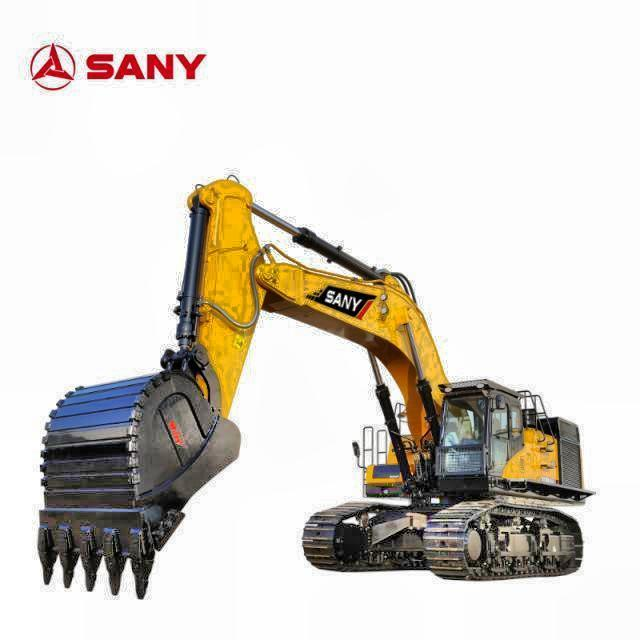excavator: (35, 170, 598, 603)
